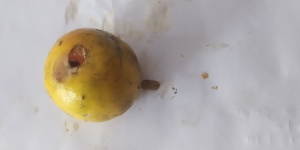BAD: (44, 28, 141, 119)
